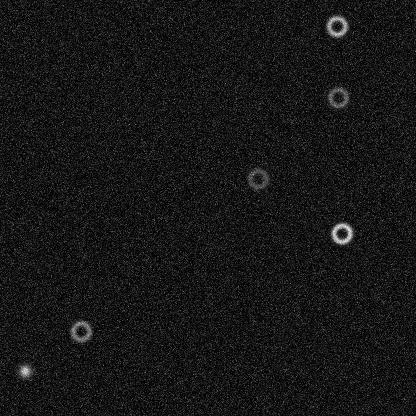Ring: (326, 85, 350, 109), (246, 166, 270, 190), (68, 319, 92, 343), (324, 14, 348, 38), (329, 221, 353, 245)
Spot: (16, 362, 32, 378)
